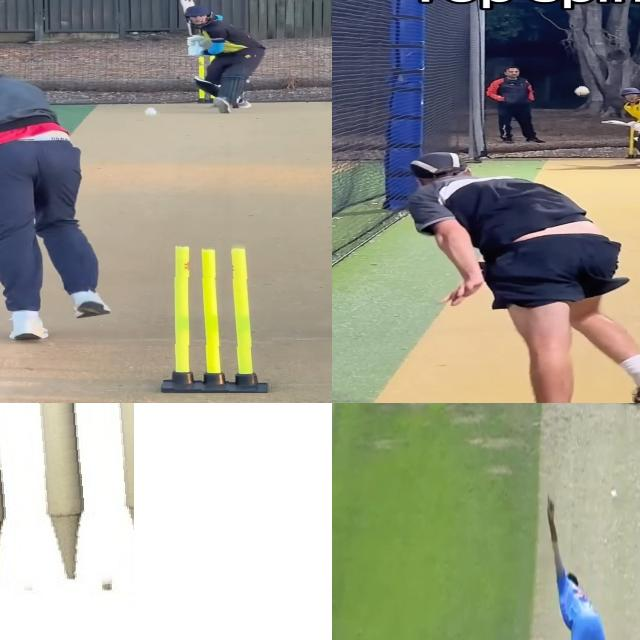Cricket ball: (142, 106, 160, 118), (574, 86, 590, 97), (609, 488, 619, 503)
Stumps: (0, 403, 133, 598), (163, 242, 273, 393)
